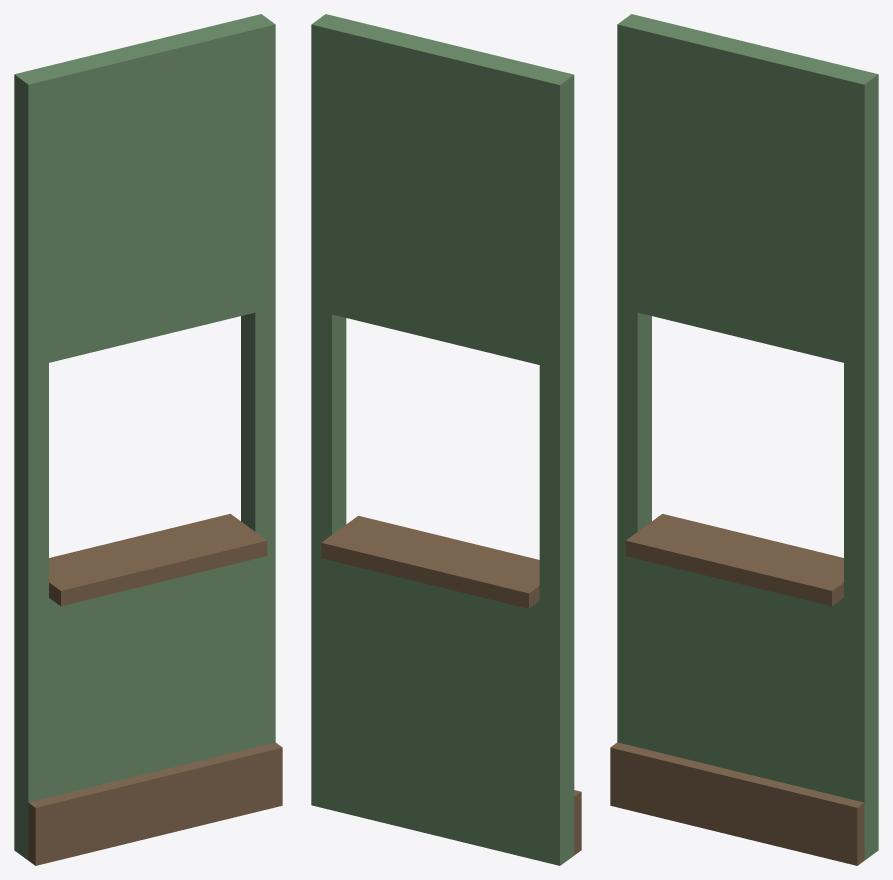
File: Mesh_WallBaseboard_F2.fbx
The picture shows the model from 3 angles, left to right: view 1: azimuth 30°, elevation 25°; view 2: azimuth 150°, elevation 25°; view 3: azimuth 330°, elevation 25°; orthographic projection.
Parts seen in each view (by area): view 1: Mesh_WallBaseboard_F2; view 2: Mesh_WallBaseboard_F2; view 3: Mesh_WallBaseboard_F2.
Boxes of the visible parts, x1,y1,x2,y2 form: Mesh_WallBaseboard_F2: (14,14,282,865); Mesh_WallBaseboard_F2: (311,14,581,865); Mesh_WallBaseboard_F2: (610,14,878,865).
Size of the model in its own units: 1 by 3 by 0.2574.
